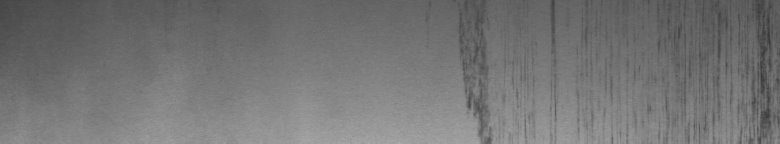ka: (456, 4, 776, 136)
